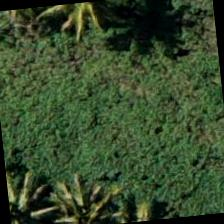Kelapa_Sawit: (29, 173, 125, 223), (5, 160, 63, 223)
